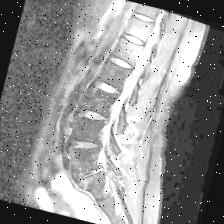disc: (94, 78, 127, 102), (120, 30, 152, 52), (106, 53, 138, 75), (130, 9, 159, 29)
hdisc: (67, 132, 106, 160), (76, 106, 112, 130), (74, 162, 110, 186)
